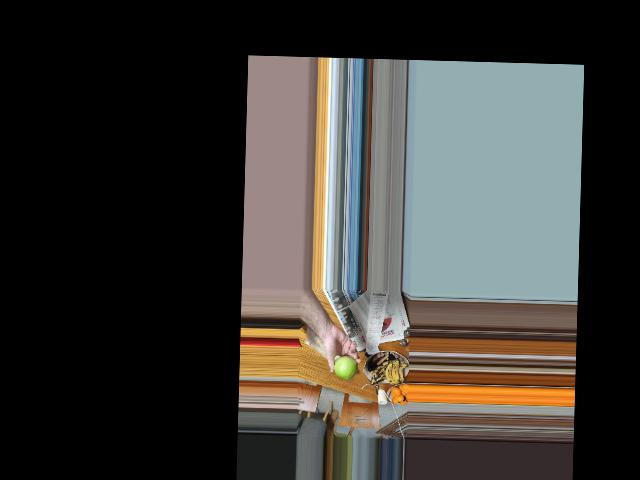apple: (333, 353, 359, 380)
